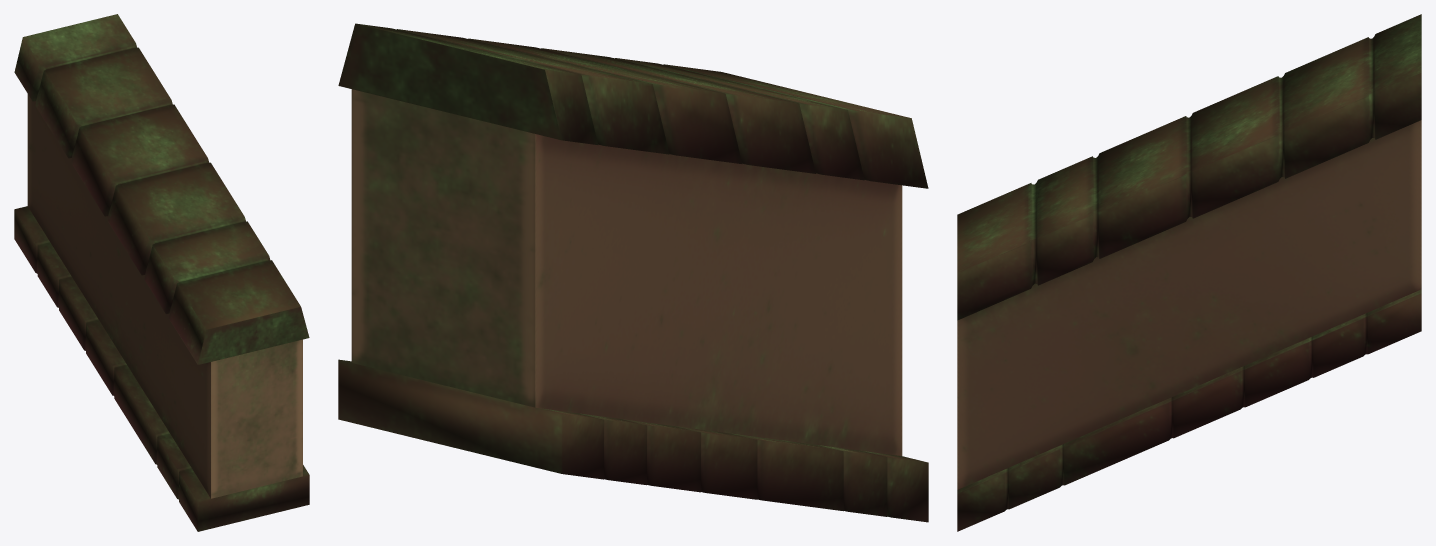
File: ParedEscaleraPequeña.fbx
3 renders of one model, left to right at view 1: azimuth 30°, elevation 25°; view 2: azimuth 150°, elevation 25°; view 3: azimuth 270°, elevation 25°, orthographic. The views are drawn at different scales.
Parts seen in each view (by area): view 1: Small_Wall.010; view 2: Small_Wall.010; view 3: Small_Wall.010.
Boxes of the visible parts, x1,y1,x2,y2 form: Small_Wall.010: (14, 14, 309, 531); Small_Wall.010: (338, 23, 928, 522); Small_Wall.010: (957, 14, 1421, 531).
Bounding box in the file's own units: 1.41 × 4.31 × 4.
